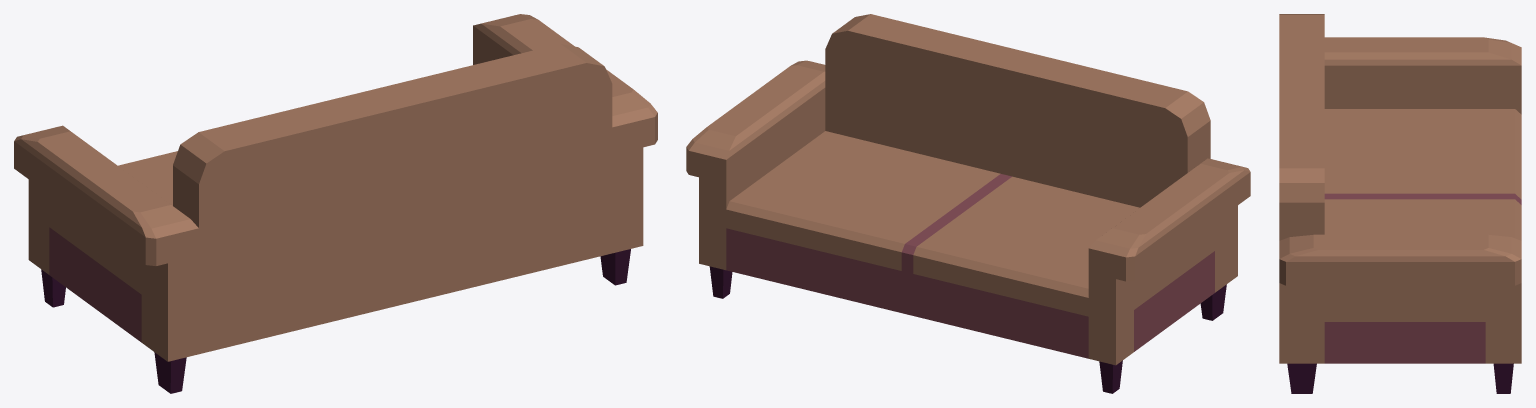
File: Interior_Sofa_Beige.fbx
The picture shows the model from 3 angles, left to right: view 1: azimuth 30°, elevation 25°; view 2: azimuth 150°, elevation 25°; view 3: azimuth 270°, elevation 25°; orthographic projection. The views are drawn at different scales.
Visible parts, largest first — view 1: Cube.201; view 2: Cube.201; view 3: Cube.201.
Boxes of the visible parts, <box> form: Cube.201: <box>14,14,657,393</box>; Cube.201: <box>686,14,1250,393</box>; Cube.201: <box>1279,14,1521,393</box>.
Bounding box in the file's own units: 173 × 76.1 × 81.26.
